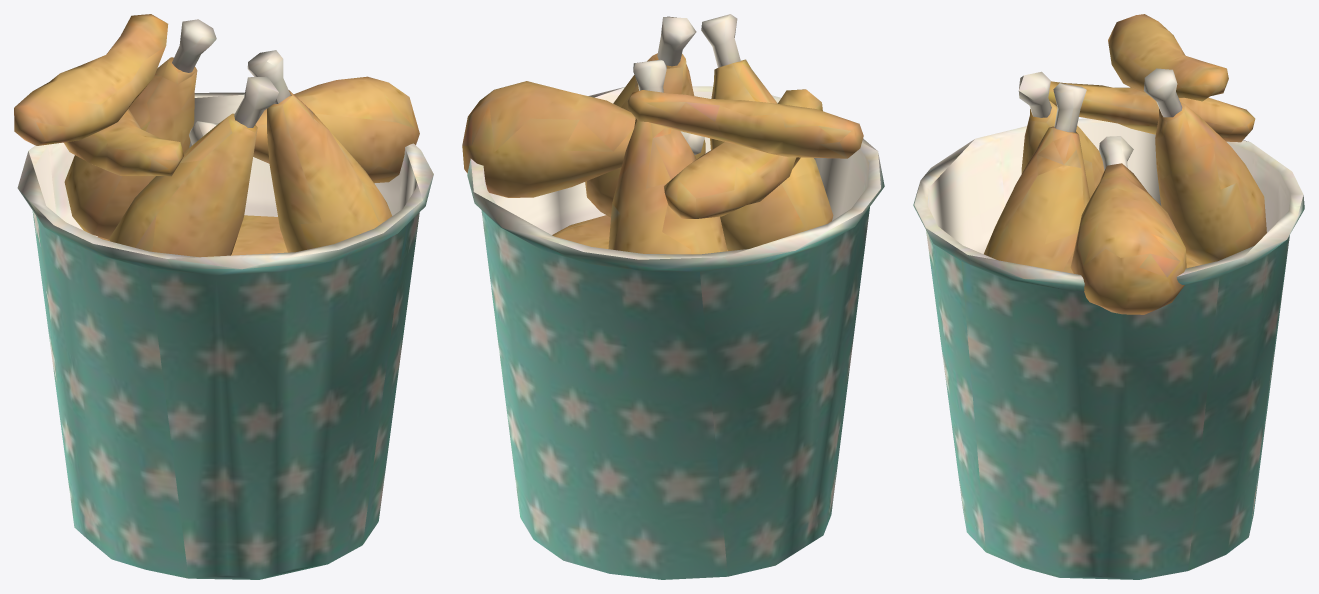
The model's file is food-fried-chicken.glb.
The picture shows the model from 3 angles, left to right: view 1: azimuth 30°, elevation 25°; view 2: azimuth 150°, elevation 25°; view 3: azimuth 270°, elevation 25°; orthographic projection. The views are drawn at different scales.
Visible parts, largest first — view 1: fried-chicken_body; view 2: fried-chicken_body; view 3: fried-chicken_body.
Part boxes in pixels (bbox=[...]): fried-chicken_body: bbox=[14, 14, 433, 579]; fried-chicken_body: bbox=[462, 14, 884, 579]; fried-chicken_body: bbox=[913, 14, 1304, 579].
Bounding box in the file's own units: 3.43 × 4 × 3.18.
1 material, 1 textured.
